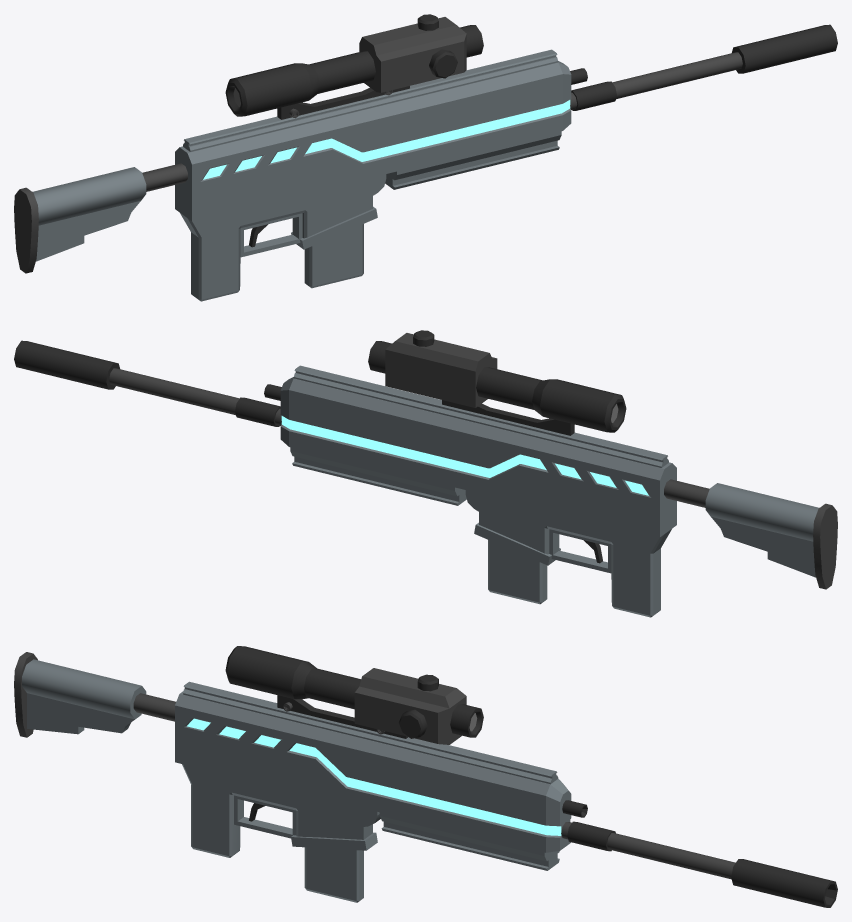
Rendered from gun.fbx.
3 renders of one model, top to bottom at view 1: azimuth 30°, elevation 25°; view 2: azimuth 150°, elevation 25°; view 3: azimuth 330°, elevation 25°, orthographic.
Visible parts, largest first — view 1: gun; view 2: gun; view 3: gun.
Boxes of the visible parts, left/top/right/bottom form: gun: left=14, top=14, right=837, bottom=301; gun: left=14, top=330, right=837, bottom=617; gun: left=14, top=646, right=837, bottom=907.
Size of the model in its own units: 87.94 by 24.93 by 5.36.
